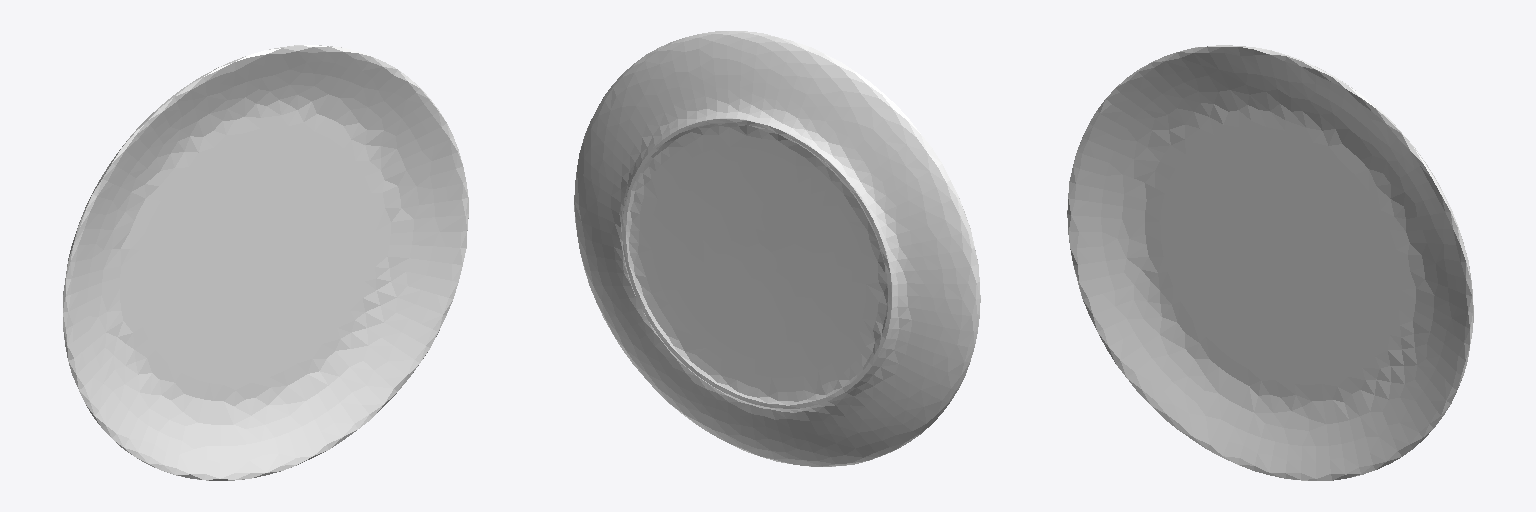
File: ikea_dinera_plate_8in_4000.obj
3 renders of one model, left to right at view 1: azimuth 30°, elevation 25°; view 2: azimuth 150°, elevation 25°; view 3: azimuth 330°, elevation 25°, orthographic.
Bounding box in the file's own units: 0.1963 × 0.1962 × 0.0181.